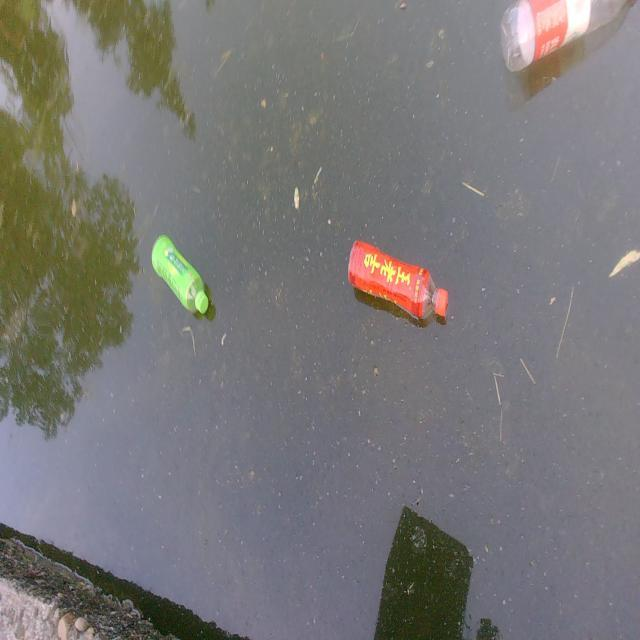bottle: (324, 215, 475, 348), (130, 211, 238, 337), (492, 0, 640, 78)
